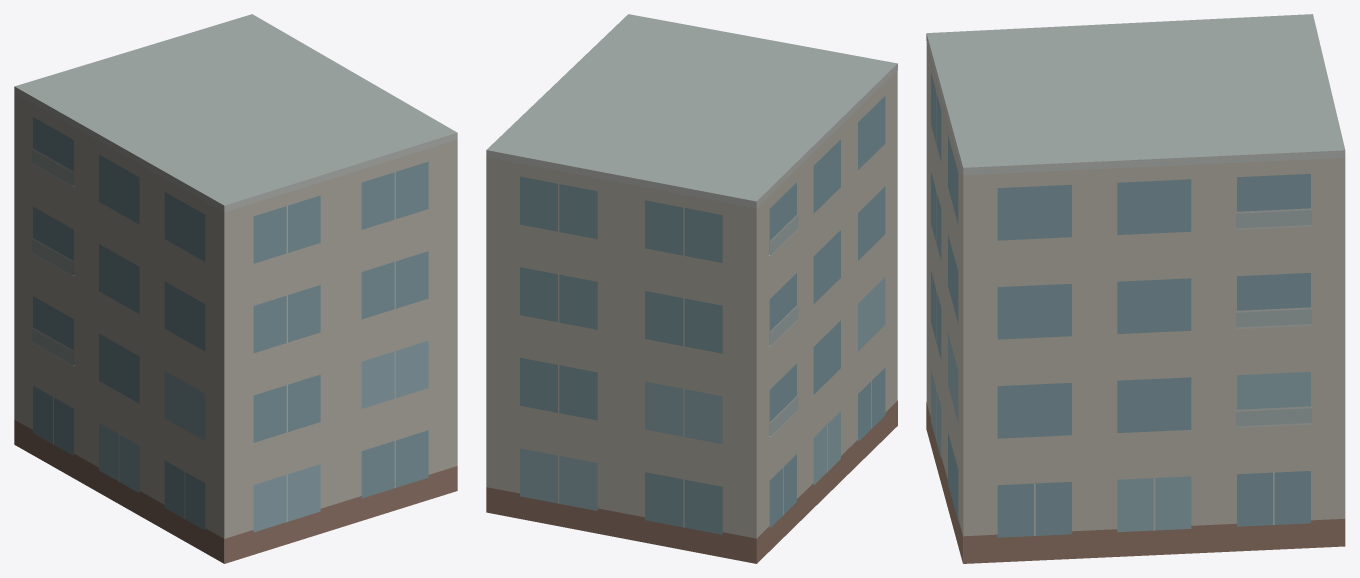
Rendered from survey-upis-32746778.glb.
The picture shows the model from 3 angles, left to right: view 1: azimuth 30°, elevation 25°; view 2: azimuth 150°, elevation 25°; view 3: azimuth 270°, elevation 25°; orthographic projection. The views are drawn at different scales.
Visible parts, largest first — view 1: survey-upis-32746778.tmp; view 2: survey-upis-32746778.tmp; view 3: survey-upis-32746778.tmp.
Part boxes in pixels (left/top/right/bottom): survey-upis-32746778.tmp: left=14, top=14, right=457, bottom=563; survey-upis-32746778.tmp: left=486, top=14, right=897, bottom=563; survey-upis-32746778.tmp: left=926, top=14, right=1345, bottom=563.
Bounding box in the file's own units: 10.75 × 12.9 × 12.38.
